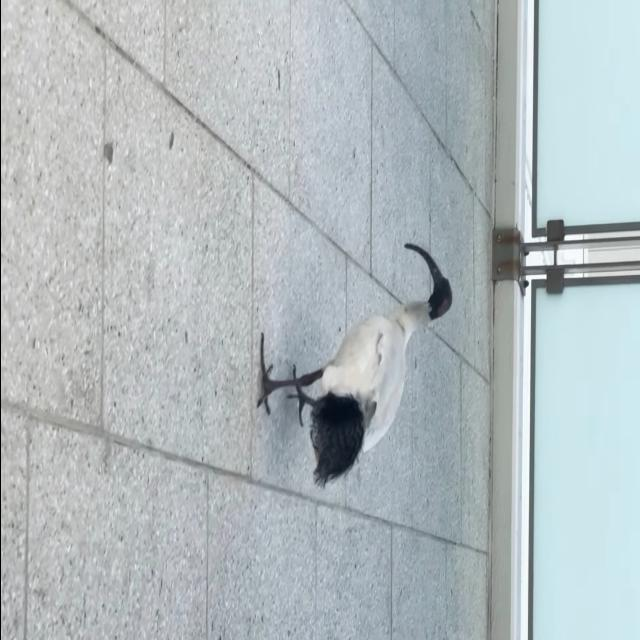Birds-Ibis: (249, 237, 455, 497)
